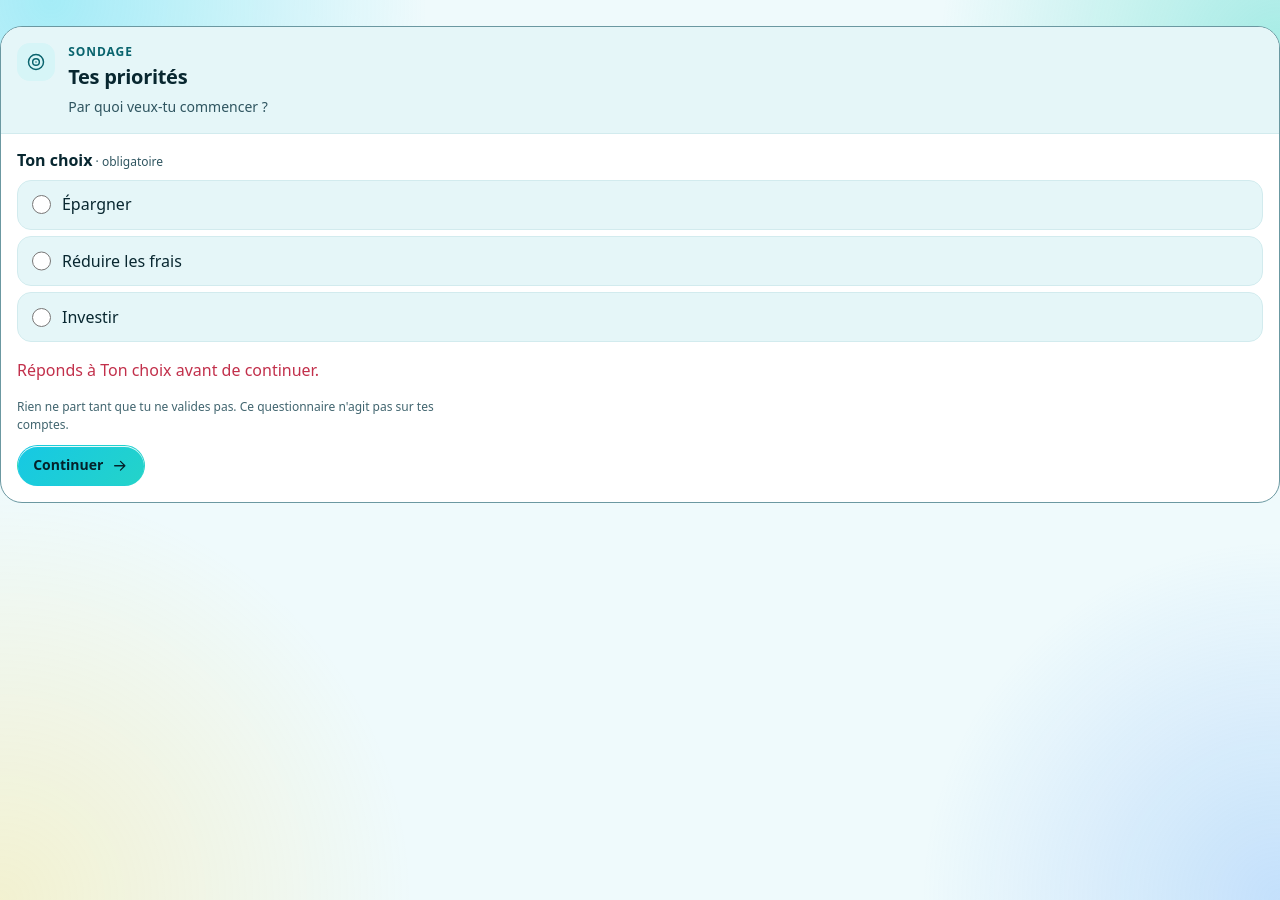
Test case: widgets de conversation Bank › validates required poll choice then sends a new user question once
Expected: the text with class "chat-interactive-type" reads "Sondage", [68, 43, 133, 60]
Expected: the message "Réponds à Ton choix avant de continuer." is shown, [17, 359, 319, 381]
Click the radio button labelled "Réduire les frais" at (41, 261), box [32, 251, 51, 270]
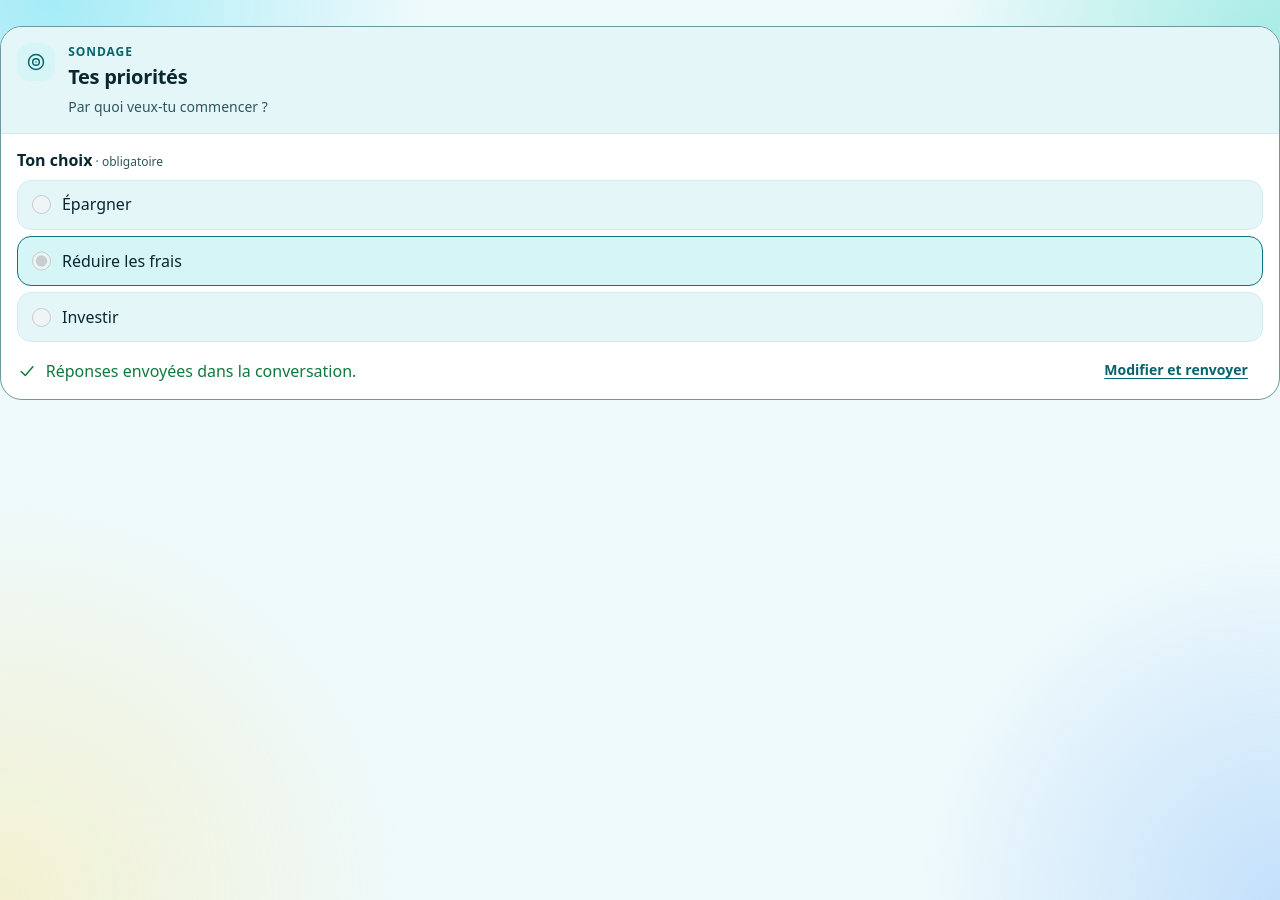
Now the message with class "chat-interactive-sent" shows "Réponses envoyées", box [46, 360, 356, 382]
Now the element showing "Ton choix · obligatoire Épargner Réduire les frais Investir" is disabled, box [17, 150, 1263, 342]
